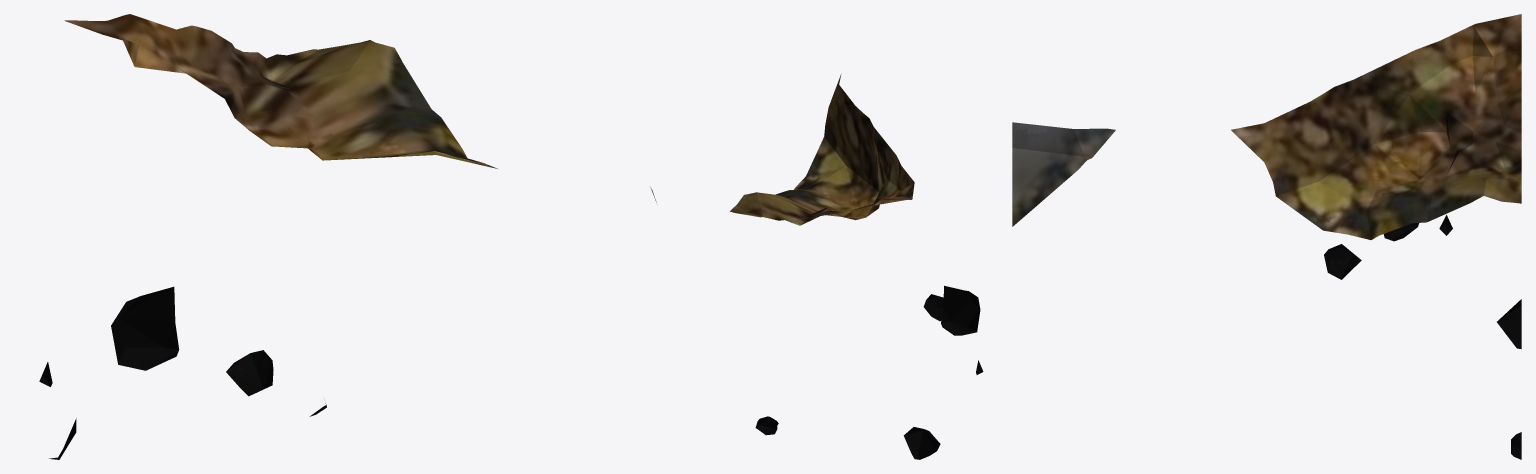
3 renders of one model, left to right at view 1: azimuth 30°, elevation 25°; view 2: azimuth 150°, elevation 25°; view 3: azimuth 270°, elevation 25°, orthographic. The views are drawn at different scales.
Bounding box in the file's own units: 0.5547 × 0.6397 × 0.8373.
Materials: 1 (1 with a texture image).
